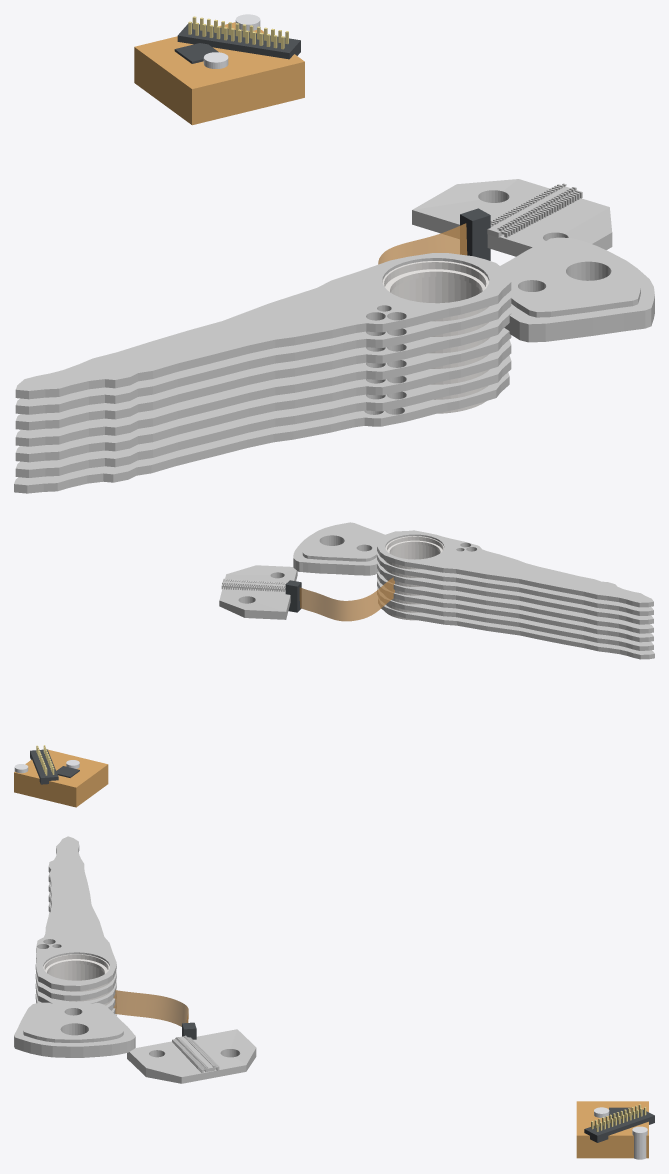
The model's file is coil.glb.
3 renders of one model, top to bottom at view 1: azimuth 30°, elevation 25°; view 2: azimuth 150°, elevation 25°; view 3: azimuth 270°, elevation 25°, orthographic. The views are drawn at different scales.
Parts seen in each view (by area): view 1: Vert.003, PreAmp_PCB_Housing.001, Vert.004, Vert.006, Vert.005, Vert.001, Vert.002, ระนาบ, Vert.007, Vert.009, Vert.008, Pivot_Outer_Ring (+4 smaller); view 2: Vert.003, PreAmp_PCB_Housing.001, ระนาบ, Vert.004, Vert.006, Vert.001, Vert.002, Vert.005, Vert.007, Vert.009, FPC_Ribbon_Spline, Pivot_Outer_Ring (+4 smaller); view 3: Vert.003, ระนาบ, Vert.009, Vert.008, PreAmp_PCB_Housing.001, FPC_Ribbon_Spline, Pivot_Outer_Ring, Vert.001, ระนาบ.001, Pin_Header_Base.001, Vert.002.
Part boxes in pixels (x1=…): Vert.003: x1=15, y1=253, x2=511, y2=399; PreAmp_PCB_Housing.001: x1=134, y1=22, x2=304, y2=125; Vert.004: x1=15, y1=328, x2=511, y2=446; Vert.006: x1=15, y1=355, x2=511, y2=477; Vert.005: x1=15, y1=339, x2=511, y2=462; Vert.001: x1=15, y1=292, x2=511, y2=414; Vert.002: x1=15, y1=308, x2=511, y2=430; ระนาบ: x1=412, y1=179, x2=612, y2=256; Vert.007: x1=14, y1=372, x2=509, y2=493; Vert.009: x1=504, y1=240, x2=640, y2=317; Vert.008: x1=500, y1=237, x2=654, y2=342; Pivot_Outer_Ring: x1=382, y1=261, x2=489, y2=413; Vert.003: x1=377, y1=530, x2=653, y2=607; PreAmp_PCB_Housing.001: x1=14, y1=749, x2=108, y2=807; ระนาบ: x1=219, y1=565, x2=297, y2=619; Vert.004: x1=377, y1=571, x2=653, y2=633; Vert.006: x1=377, y1=586, x2=653, y2=650; Vert.001: x1=377, y1=551, x2=653, y2=615; Vert.002: x1=377, y1=560, x2=653, y2=624; Vert.005: x1=377, y1=578, x2=653, y2=642; Vert.007: x1=378, y1=597, x2=654, y2=659; Vert.009: x1=302, y1=523, x2=383, y2=561; FPC_Ribbon_Spline: x1=299, y1=577, x2=394, y2=621; Pivot_Outer_Ring: x1=383, y1=536, x2=443, y2=620; Vert.003: x1=35, y1=836, x2=116, y2=990; ระนาบ: x1=127, y1=1029, x2=256, y2=1083; Vert.009: x1=23, y1=1003, x2=123, y2=1042; Vert.008: x1=14, y1=1002, x2=135, y2=1057; PreAmp_PCB_Housing.001: x1=576, y1=1101, x2=648, y2=1158; FPC_Ribbon_Spline: x1=113, y1=990, x2=188, y2=1026; Pivot_Outer_Ring: x1=43, y1=954, x2=112, y2=1010; Vert.001: x1=35, y1=852, x2=116, y2=1000; ระนาบ.001: x1=172, y1=1035, x2=219, y2=1073; Pin_Header_Base.001: x1=584, y1=1109, x2=654, y2=1142; Vert.002: x1=35, y1=882, x2=116, y2=1004.
Bounding box in the file's own units: 11.32 × 2.67 × 14.15.
